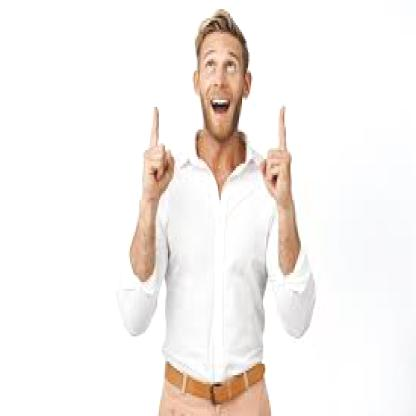Up: (263, 96, 305, 210), (142, 82, 176, 198)
